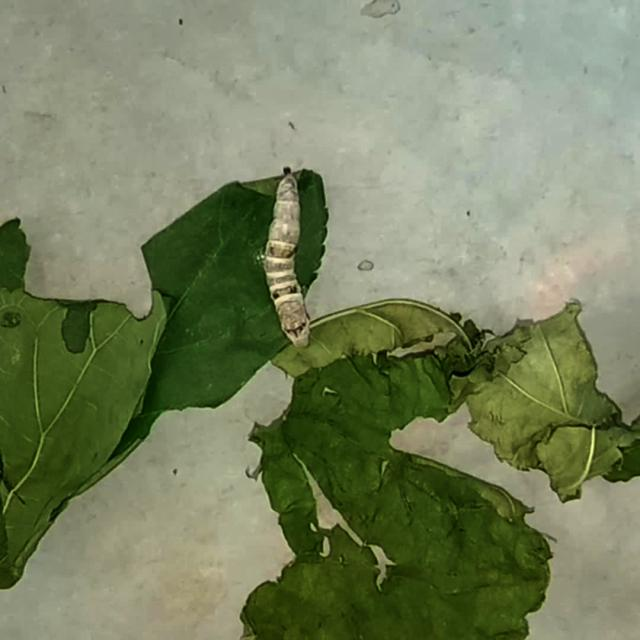Grasserie: (251, 158, 337, 356)
